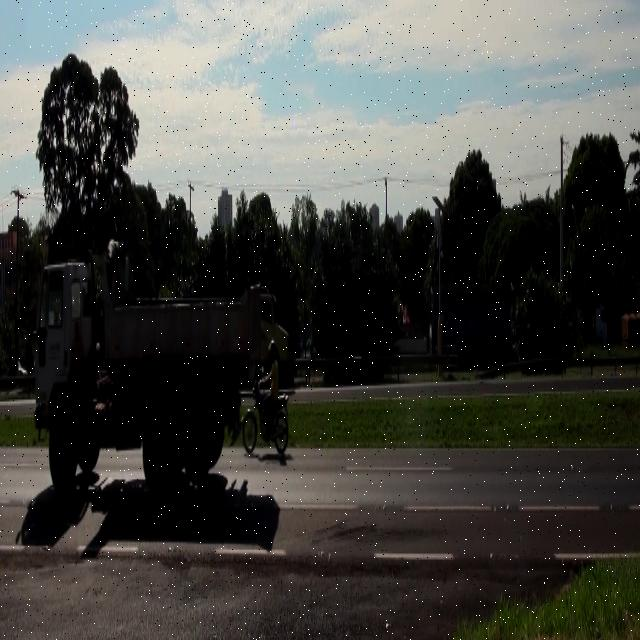-axle: (142, 398, 177, 494), (48, 400, 78, 495), (180, 397, 212, 482)
